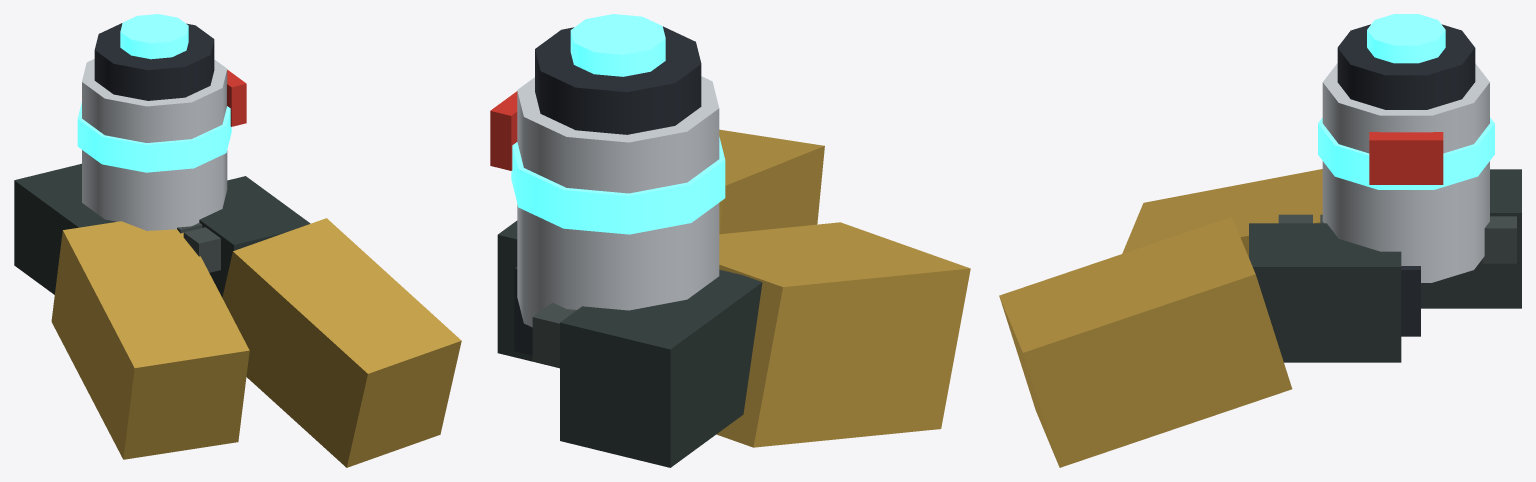
Rendered from shield_dome.glb.
3 views of the same model, side by side, from view 1: azimuth 30°, elevation 25°; view 2: azimuth 150°, elevation 25°; view 3: azimuth 270°, elevation 25° (orthographic). The views are drawn at different scales.
Visible parts, largest first — view 1: _MeshInstance3D_3975, _MeshInstance3D_3969, _MeshInstance3D_3959, _MeshInstance3D_3968, _MeshInstance3D_3961, _MeshInstance3D_3974, _MeshInstance3D_3960, _MeshInstance3D_3962, _MeshInstance3D_3978, _MeshInstance3D_3966; view 2: _MeshInstance3D_3969, _MeshInstance3D_3959, _MeshInstance3D_3968, _MeshInstance3D_3961, _MeshInstance3D_3960, _MeshInstance3D_3975, _MeshInstance3D_3962, _MeshInstance3D_3974, _MeshInstance3D_3966, _MeshInstance3D_3970, _MeshInstance3D_3963; view 3: _MeshInstance3D_3975, _MeshInstance3D_3959, _MeshInstance3D_3974, _MeshInstance3D_3969, _MeshInstance3D_3961, _MeshInstance3D_3968, _MeshInstance3D_3960, _MeshInstance3D_3966, _MeshInstance3D_3962, _MeshInstance3D_3970, _MeshInstance3D_3963.
Boxes of the visible parts, x1=… form: _MeshInstance3D_3975: x1=222, y1=218, x2=461, y2=467; _MeshInstance3D_3969: x1=51, y1=221, x2=249, y2=459; _MeshInstance3D_3959: x1=82, y1=59, x2=227, y2=230; _MeshInstance3D_3968: x1=14, y1=163, x2=115, y2=294; _MeshInstance3D_3961: x1=94, y1=23, x2=214, y2=100; _MeshInstance3D_3974: x1=199, y1=176, x2=310, y2=297; _MeshInstance3D_3960: x1=77, y1=102, x2=231, y2=172; _MeshInstance3D_3962: x1=120, y1=14, x2=188, y2=59; _MeshInstance3D_3978: x1=183, y1=227, x2=220, y2=272; _MeshInstance3D_3966: x1=227, y1=70, x2=246, y2=126; _MeshInstance3D_3969: x1=716, y1=222, x2=970, y2=447; _MeshInstance3D_3959: x1=517, y1=76, x2=719, y2=327; _MeshInstance3D_3968: x1=560, y1=269, x2=762, y2=467; _MeshInstance3D_3961: x1=535, y1=26, x2=701, y2=134; _MeshInstance3D_3960: x1=511, y1=137, x2=725, y2=234; _MeshInstance3D_3975: x1=719, y1=129, x2=824, y2=234; _MeshInstance3D_3962: x1=570, y1=14, x2=665, y2=76; _MeshInstance3D_3974: x1=497, y1=220, x2=559, y2=368; _MeshInstance3D_3966: x1=490, y1=91, x2=517, y2=170; _MeshInstance3D_3970: x1=532, y1=302, x2=576, y2=367; _MeshInstance3D_3963: x1=514, y1=267, x2=532, y2=355; _MeshInstance3D_3975: x1=999, y1=217, x2=1292, y2=467; _MeshInstance3D_3959: x1=1322, y1=63, x2=1489, y2=282; _MeshInstance3D_3974: x1=1249, y1=223, x2=1401, y2=362; _MeshInstance3D_3969: x1=1122, y1=169, x2=1322, y2=257; _MeshInstance3D_3961: x1=1337, y1=24, x2=1475, y2=109; _MeshInstance3D_3968: x1=1421, y1=169, x2=1521, y2=308; _MeshInstance3D_3960: x1=1318, y1=117, x2=1494, y2=189; _MeshInstance3D_3966: x1=1369, y1=132, x2=1443, y2=184; _MeshInstance3D_3962: x1=1367, y1=14, x2=1445, y2=63; _MeshInstance3D_3970: x1=1482, y1=216, x2=1516, y2=263; _MeshInstance3D_3963: x1=1401, y1=266, x2=1420, y2=336.
Size of the model in its own units: 0.1445 by 0.1642 by 0.2127.
